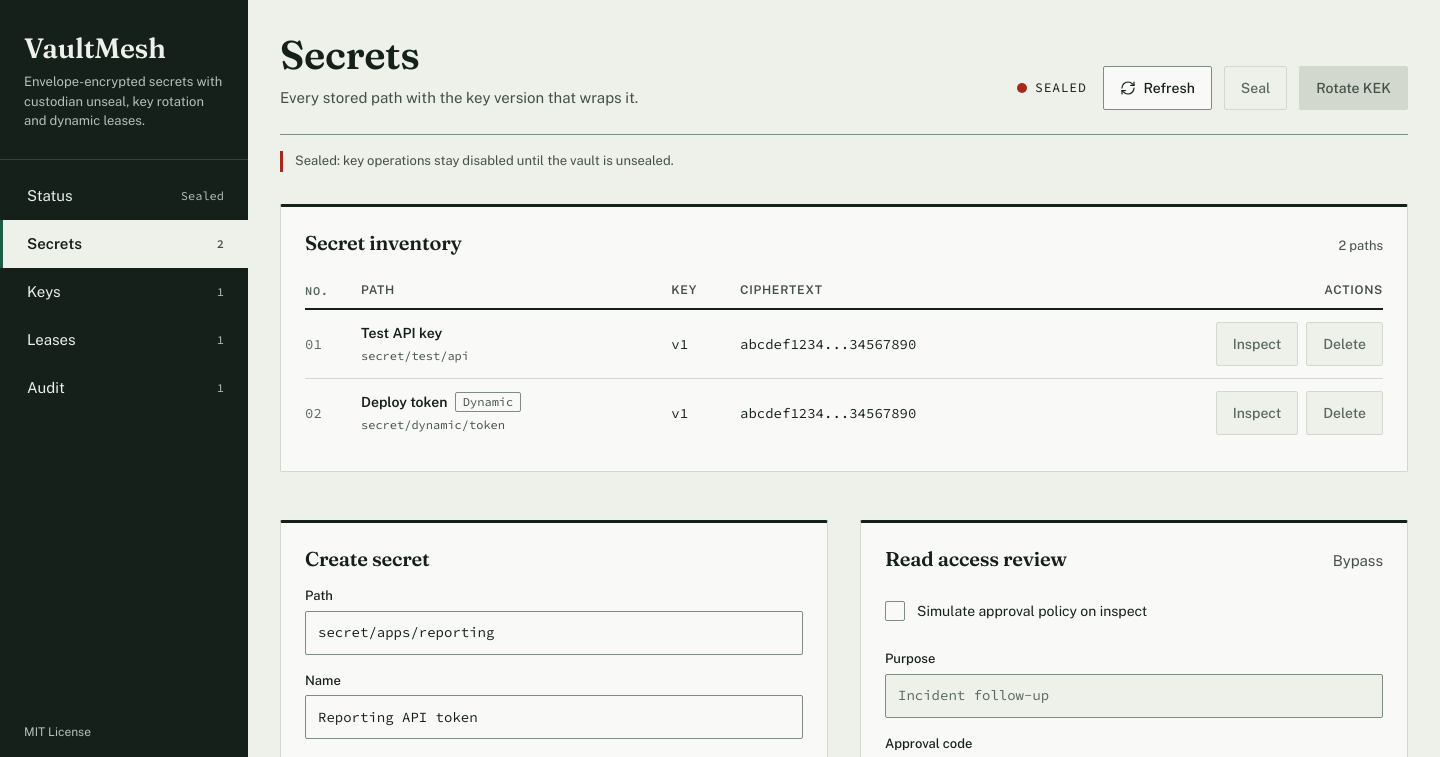
Test: App › clears submitted shares on request
The width and height of the screenshot is (1440, 757).
Expected: the text "Test API key" is shown, [361,325,442,341]
Click the button "Status Sealed" at (124, 196), box [0,172,248,220]
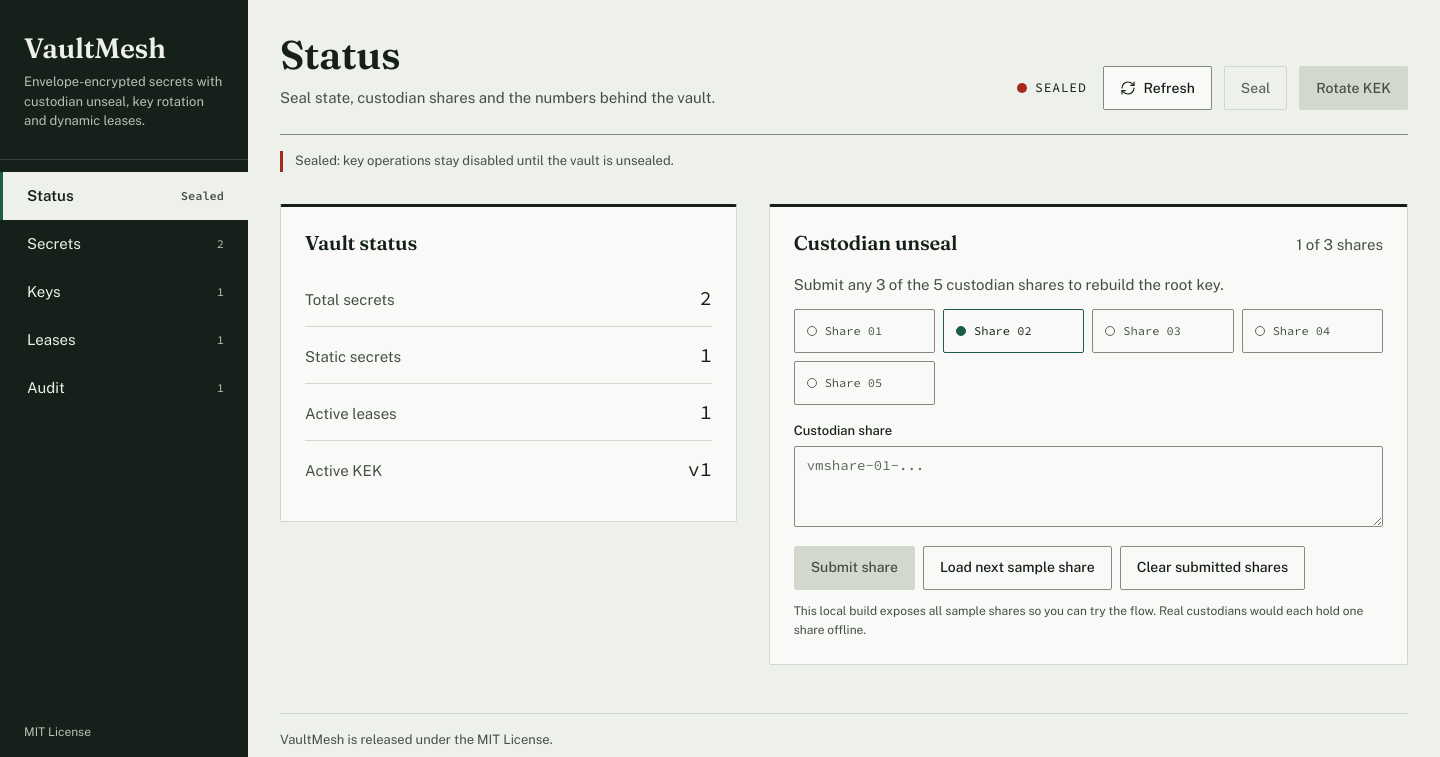
Click the button "Clear submitted shares" at (1212, 568), box [1120,546,1305,590]
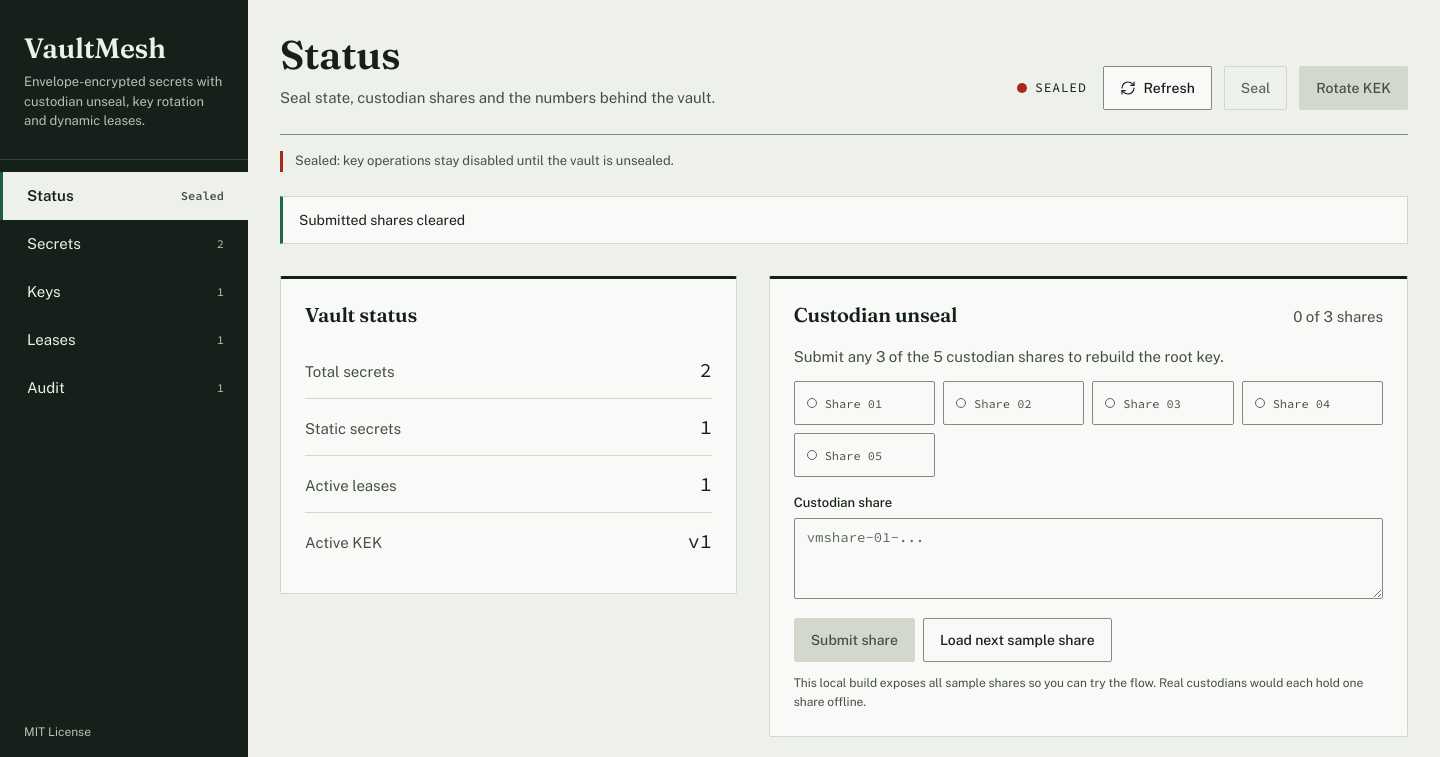
Expected: the text "Submitted shares cleared" is shown, [280,196,1408,244]
Expected: the text "0 of 3 shares" is shown, [1293,305,1383,329]
